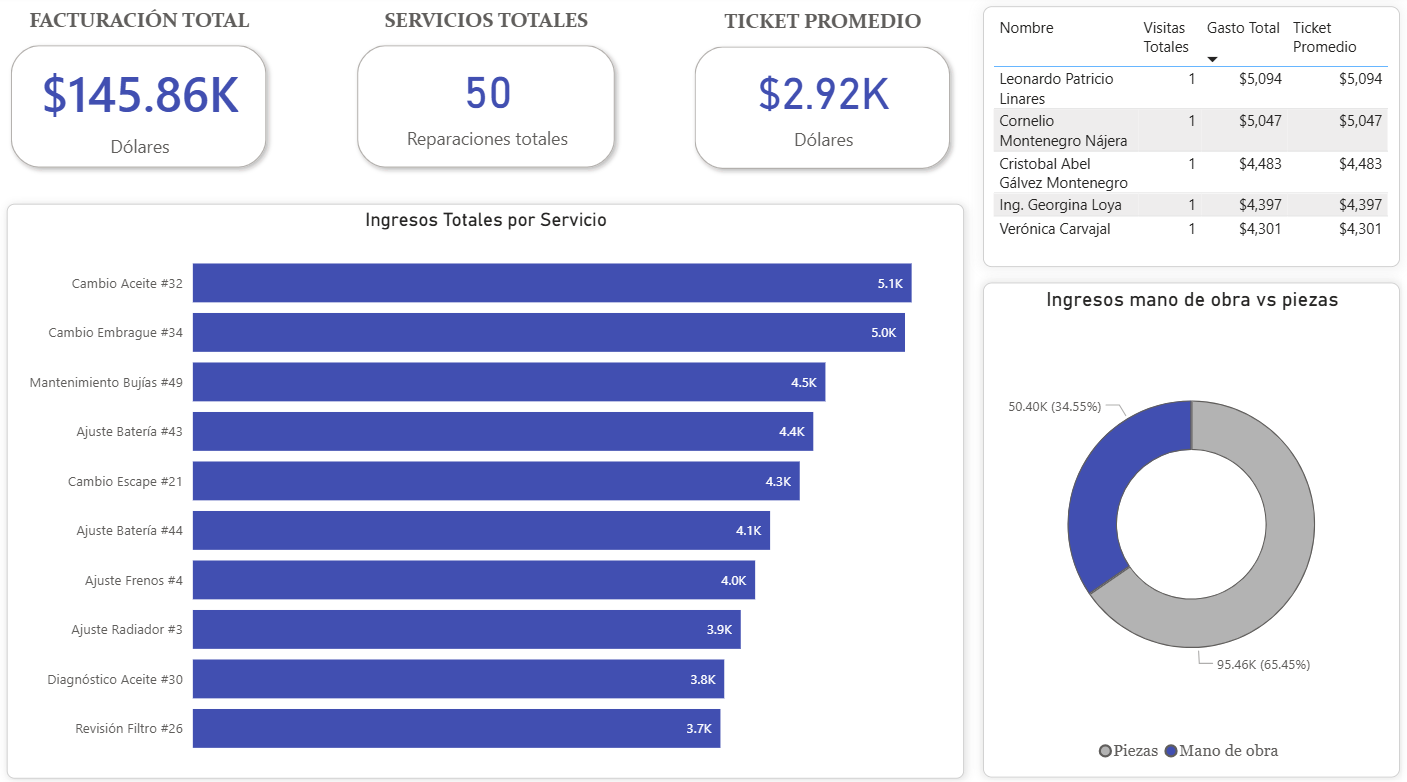

What the dashboard file says about the page in this screenshot:
{"tool":"powerbi","page":{"name":"Page 1","canvas":[1280,720],"ordinal":0},"visuals":[{"type":"cardVisual","title":"SERVICIOS TOTALES","fields":{"Data":["taller_donchuy v_fact_reparaciones.Total_Reparaciones"]},"box":[311.9,10.9,256.1,156.7],"z":0},{"type":"cardVisual","title":"FACTURACIÓN TOTAL","fields":{"Data":["Sum(taller_donchuy v_fact_reparaciones.importe_total)"]},"box":[0,10.9,254.5,156.7],"z":1000},{"type":"cardVisual","title":"TICKET PROMEDIO","fields":{"Data":["Avg(taller_donchuy v_fact_reparaciones.importe_total)"]},"box":[616.1,12.4,254.5,156.7],"z":2000},{"type":"clusteredBarChart","title":"Ingresos Totales por Servicio","fields":{"Category":["taller_donchuy v_kpi_servicios.nombre_servicio"],"Y":["Sum(taller_donchuy v_kpi_servicios.ingresos_totales)"]},"box":[7.8,187.8,862.9,518.3],"z":3000},{"type":"donutChart","title":"Ingresos mano de obra vs piezas","fields":{"Y":["Sum(taller_donchuy v_kpi_servicios.ingresos_piezas)","Sum(taller_donchuy v_kpi_servicios.ingresos_mano_obra)"]},"box":[888.2,259,376,446.3],"z":4000},{"type":"tableEx","fields":{"Values":["taller_donchuy v_kpi_clientes.nombre_cliente","Sum(taller_donchuy v_kpi_clientes.total_visitas)","Sum(taller_donchuy v_kpi_clientes.gasto_total_cliente)","Sum(taller_donchuy v_kpi_clientes.ticket_promedio_cliente)"]},"box":[888.2,10.2,376,235.6],"z":5000}]}

Visuals, with their boxes in screenshot pixels (x1, y1, x2, y2), scaled from the page's 1280x720 canvas onto the 1407x782 screenshot:
"SERVICIOS TOTALES" cardVisual: region(343, 12, 624, 182)
"FACTURACIÓN TOTAL" cardVisual: region(0, 12, 280, 182)
"TICKET PROMEDIO" cardVisual: region(677, 13, 957, 184)
"Ingresos Totales por Servicio" clusteredBarChart: region(9, 204, 957, 767)
"Ingresos mano de obra vs piezas" donutChart: region(976, 281, 1390, 766)
tableEx - taller_donchuy v_kpi_clientes.nombre_cliente x Sum(taller_donchuy v_kpi_clientes.total_visitas): region(976, 11, 1390, 267)
